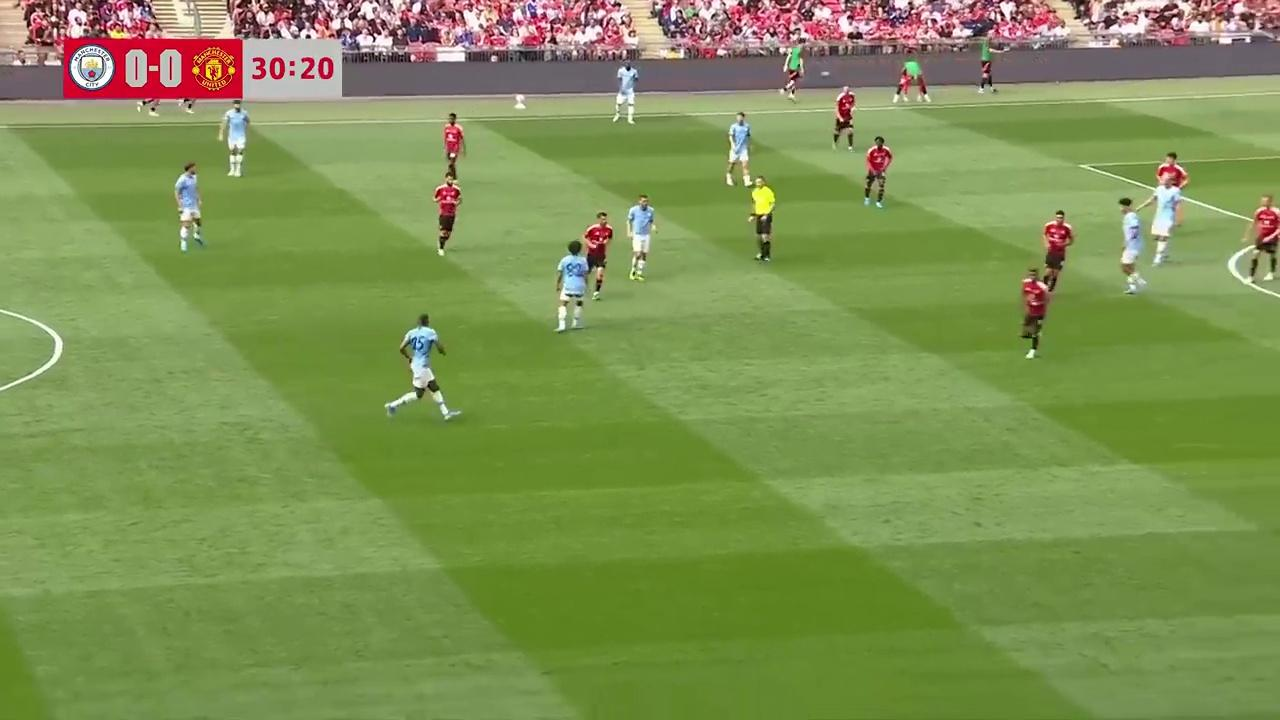player: (387, 314, 459, 420), (1242, 193, 1280, 283), (554, 241, 587, 333), (1146, 177, 1179, 266), (174, 162, 206, 252), (1041, 209, 1075, 293), (1118, 200, 1147, 294), (625, 194, 656, 281), (1020, 267, 1049, 358), (1153, 151, 1189, 224), (582, 211, 612, 296), (219, 101, 250, 177), (863, 135, 893, 208), (433, 175, 460, 255), (726, 111, 752, 186), (831, 83, 857, 152), (442, 112, 465, 180), (612, 64, 637, 124)
referee: (748, 175, 775, 262)
